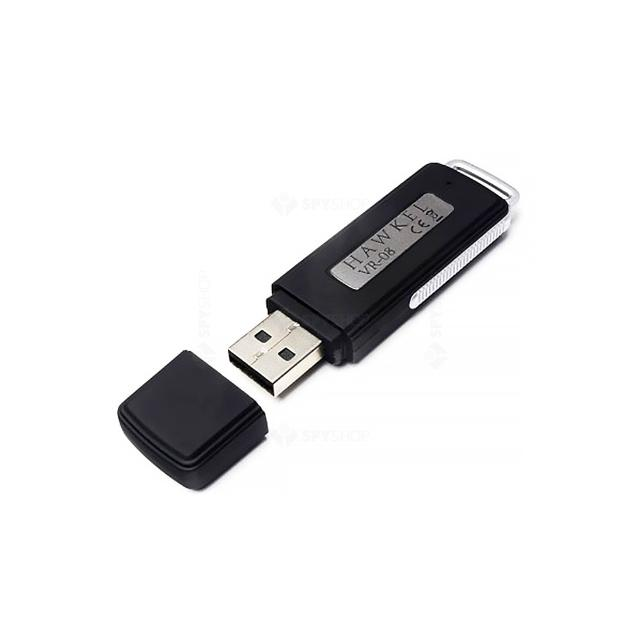USB-Flash-Drive: (228, 161, 520, 396)
